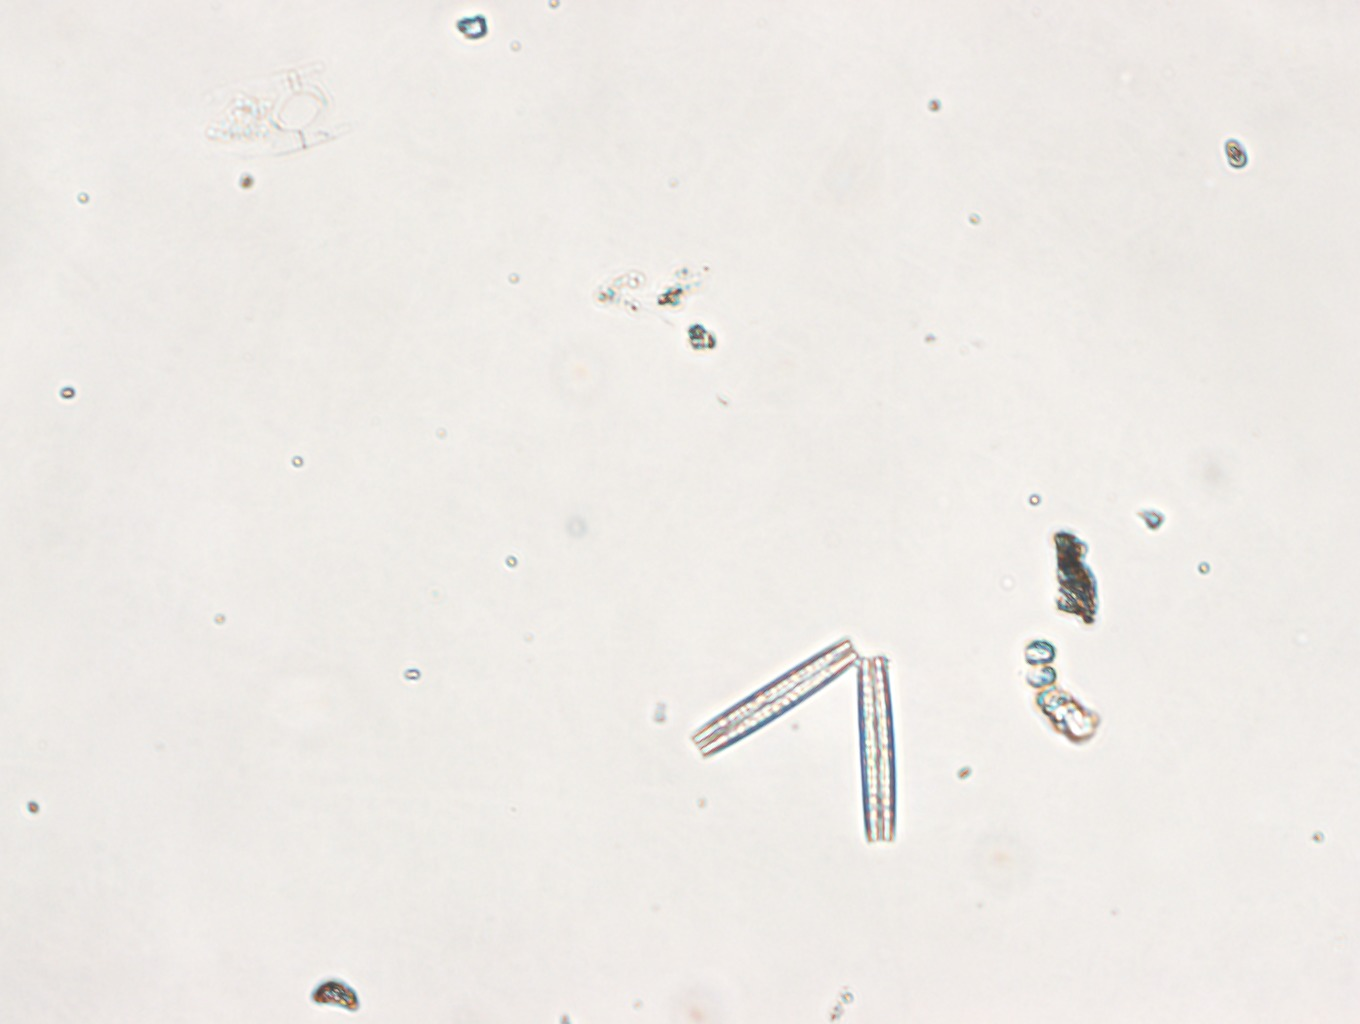thalassionema nitzschioides: (691, 629, 911, 851)
